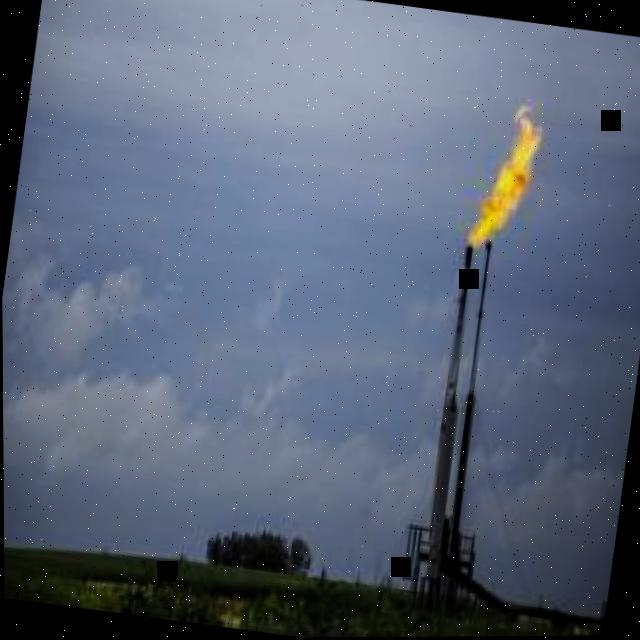fire: (469, 106, 542, 249)
